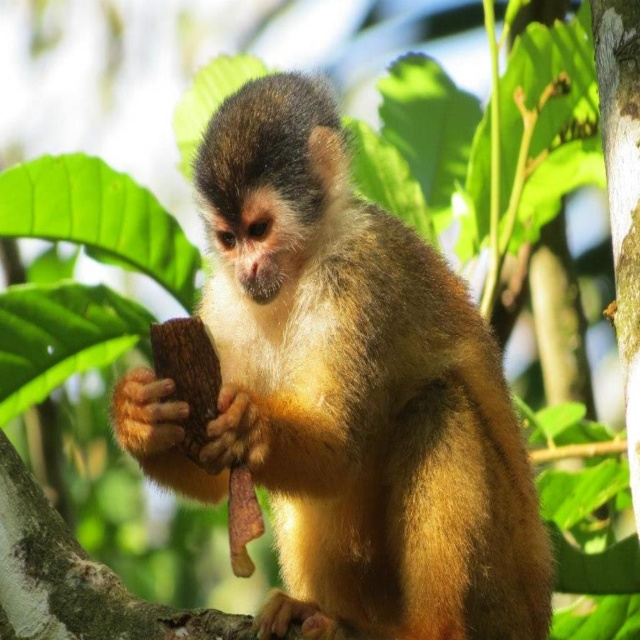Monkey: (106, 64, 562, 640)
